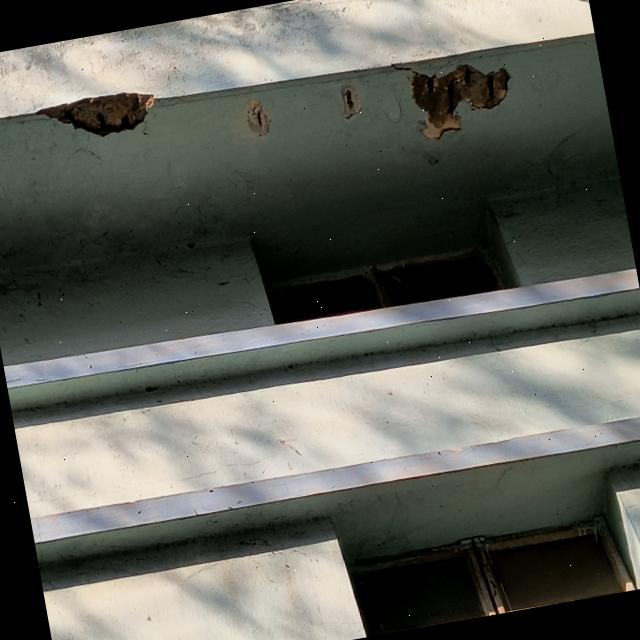Spalling: (409, 64, 510, 139), (36, 92, 154, 136), (247, 98, 271, 136), (341, 84, 361, 118)
